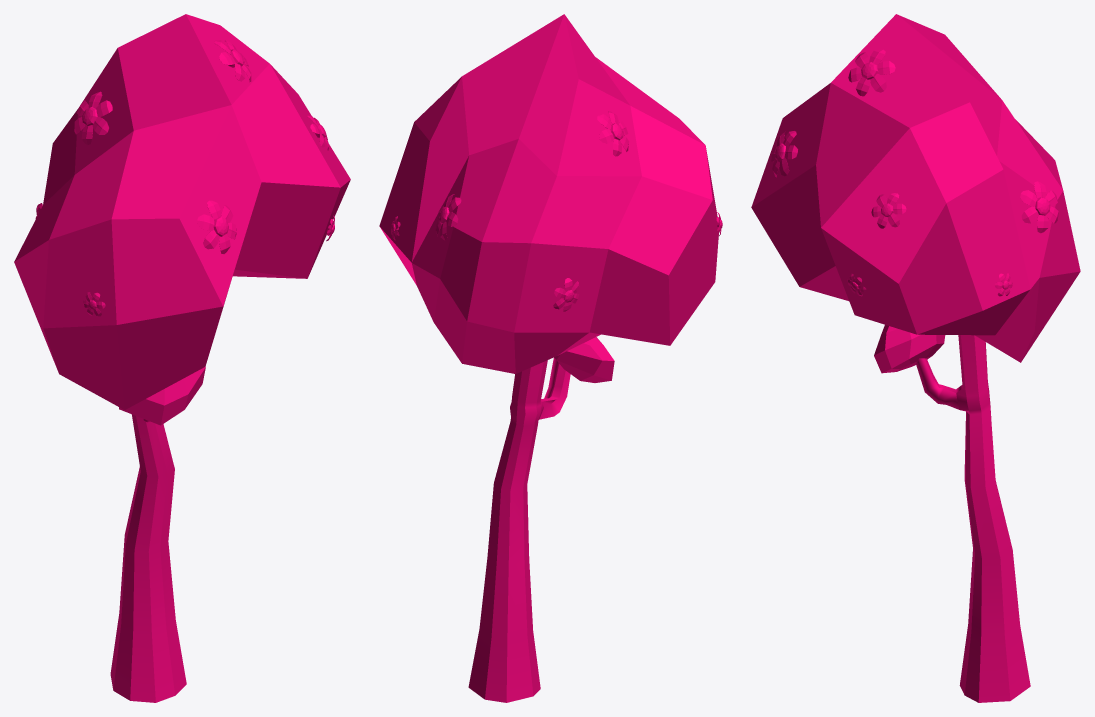
The model's file is SM_SS_Cherry_Tree.fbx.
The picture shows the model from 3 angles, left to right: view 1: azimuth 30°, elevation 25°; view 2: azimuth 150°, elevation 25°; view 3: azimuth 270°, elevation 25°; orthographic projection. The views are drawn at different scales.
Visible parts, largest first — view 1: SM_SS_Cherry_Tree; view 2: SM_SS_Cherry_Tree; view 3: SM_SS_Cherry_Tree.
Part boxes in pixels (x1,y1,x2,y2): SM_SS_Cherry_Tree: (14, 14, 350, 702); SM_SS_Cherry_Tree: (379, 14, 722, 702); SM_SS_Cherry_Tree: (751, 14, 1080, 702).
Bounding box in the file's own units: 105 × 99.65 × 224.
